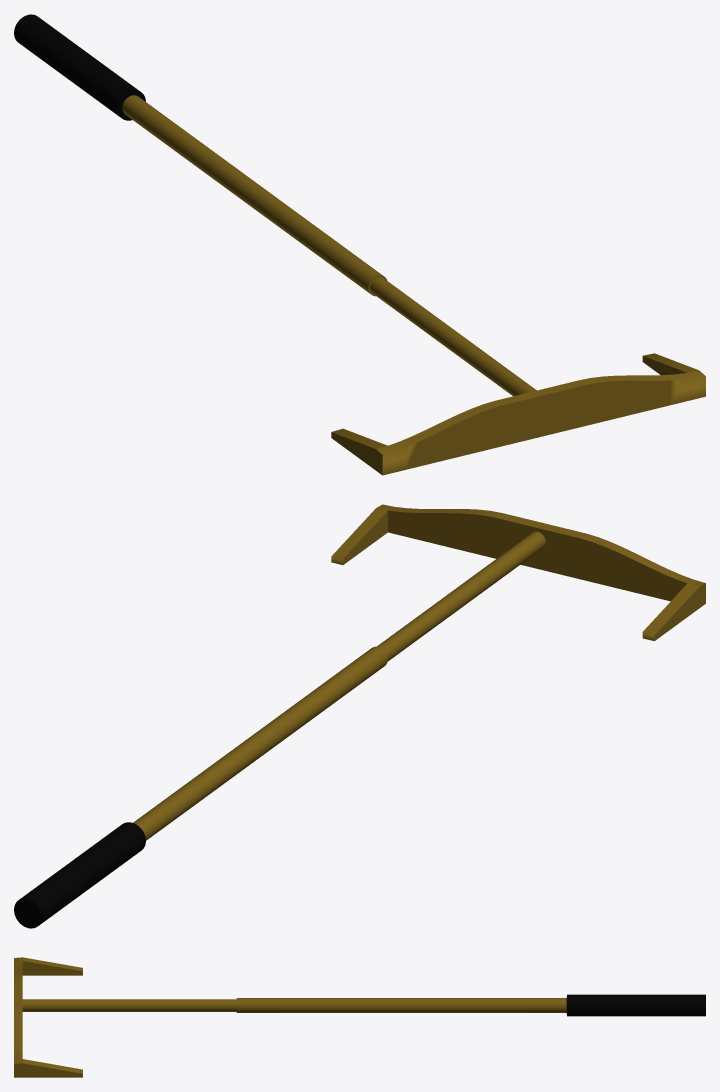
The model's file is Casino Schieber.fbx.
The picture shows the model from 3 angles, top to bottom: view 1: azimuth 30°, elevation 25°; view 2: azimuth 150°, elevation 25°; view 3: azimuth 270°, elevation 25°; orthographic projection. The views are drawn at different scales.
Visible parts, largest first — view 1: Schieber; view 2: Schieber; view 3: Schieber.
Part boxes in pixels (x1,y1,x2,y2): Schieber: [14, 14, 705, 475]; Schieber: [14, 504, 705, 928]; Schieber: [14, 957, 705, 1077].
Size of the model in its own units: 758 by 97.37 by 2096.
